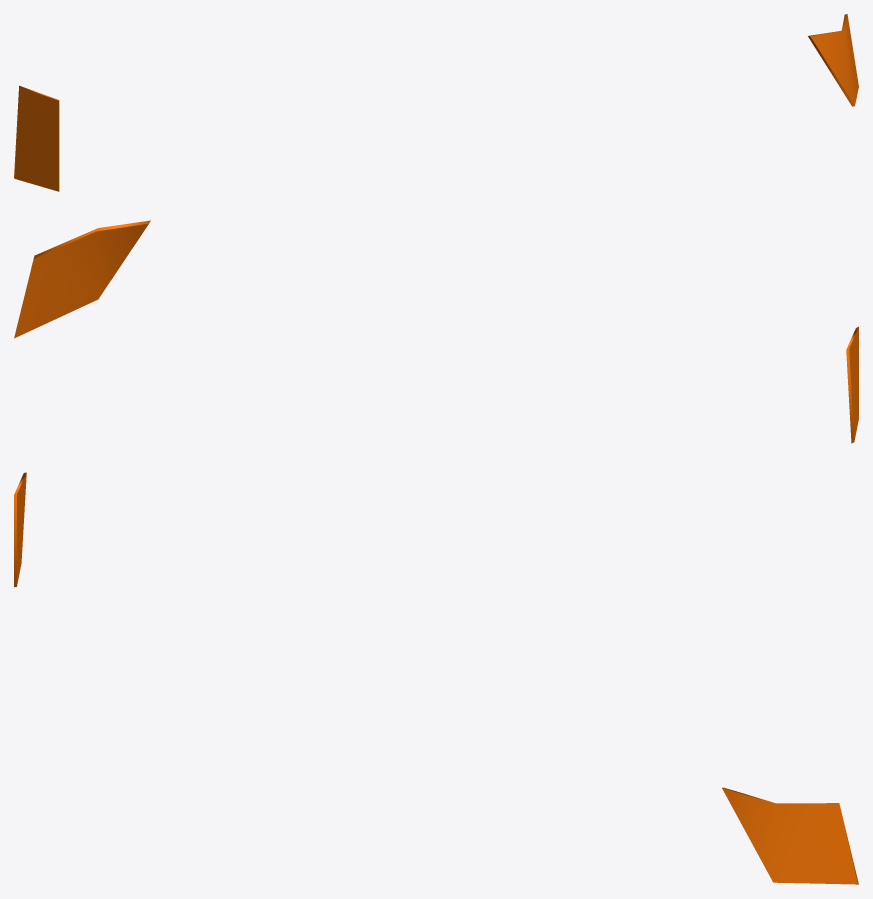
The model's file is car-indicator-right.dae.
3 renders of one model, top to bottom at view 1: azimuth 30°, elevation 25°; view 2: azimuth 150°, elevation 25°; view 3: azimuth 330°, elevation 25°, orthographic.
Parts seen in each view (by area): view 1: SedanBlinker-Right; view 2: SedanBlinker-Right; view 3: SedanBlinker-Right.
Part boxes in pixels (x1,y1,x2,y2): SedanBlinker-Right: (14, 14, 858, 191); SedanBlinker-Right: (14, 220, 858, 443); SedanBlinker-Right: (14, 472, 858, 884).
Size of the model in its own units: 0.929 by 0.1029 by 0.21.
